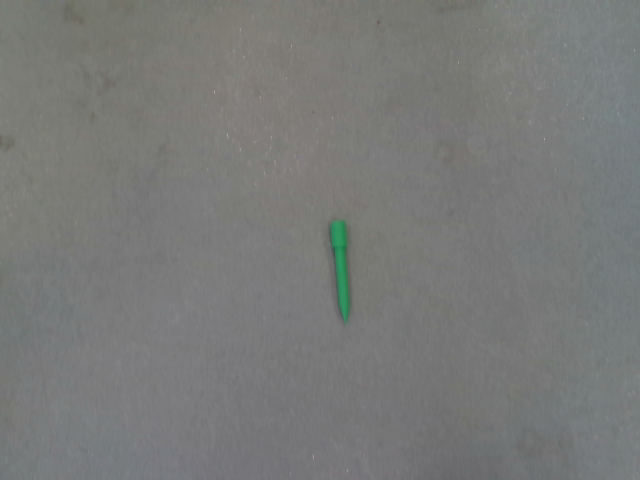Probe: (324, 212, 357, 327)
